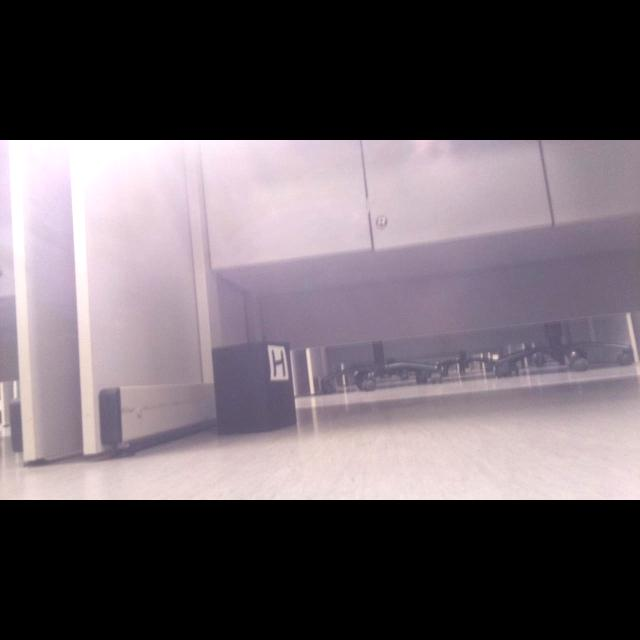H: (272, 349, 286, 377)
